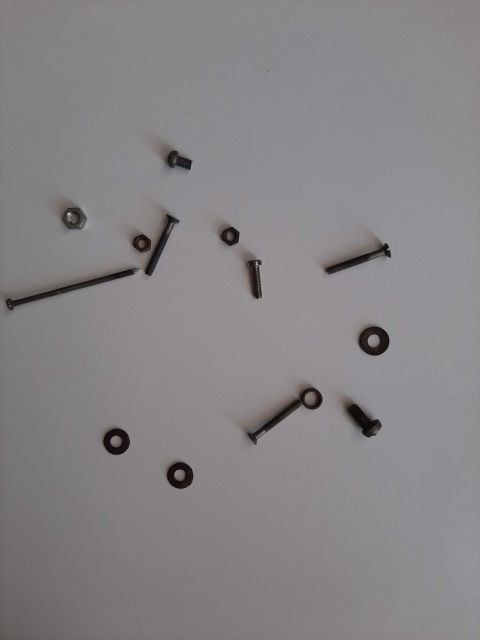nakretka: (45, 185, 95, 245)
podkladka: (325, 305, 415, 355), (65, 415, 135, 475), (155, 445, 215, 505)
sruba: (305, 215, 395, 295), (215, 385, 305, 445), (325, 385, 395, 445), (155, 125, 215, 185), (135, 205, 185, 275), (235, 245, 275, 305)
